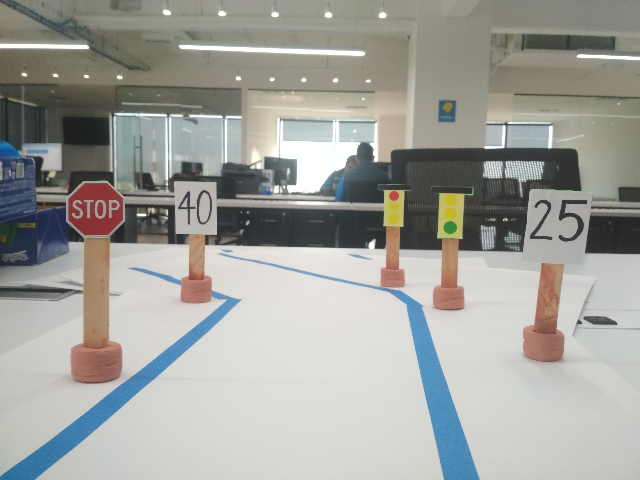Green Traffic Light: (425, 183, 474, 241)
Red Traffic Light: (373, 183, 412, 229)
Speed Limit 25: (520, 185, 590, 262)
Speed Limit 40: (170, 177, 219, 236)
Stop Sign: (64, 179, 128, 238)
